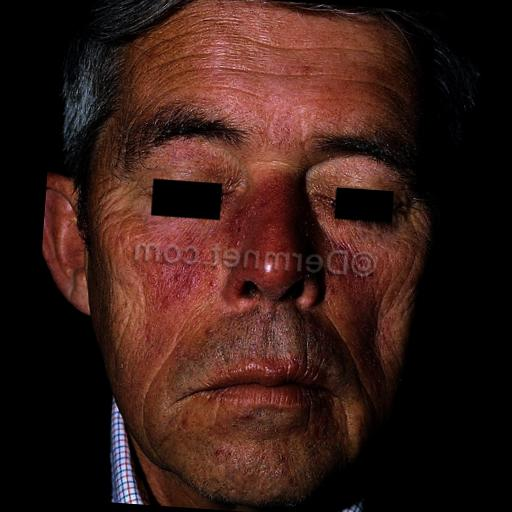Skin_Lesion: (126, 202, 212, 320), (256, 178, 292, 248), (42, 190, 62, 256), (326, 490, 368, 512)
